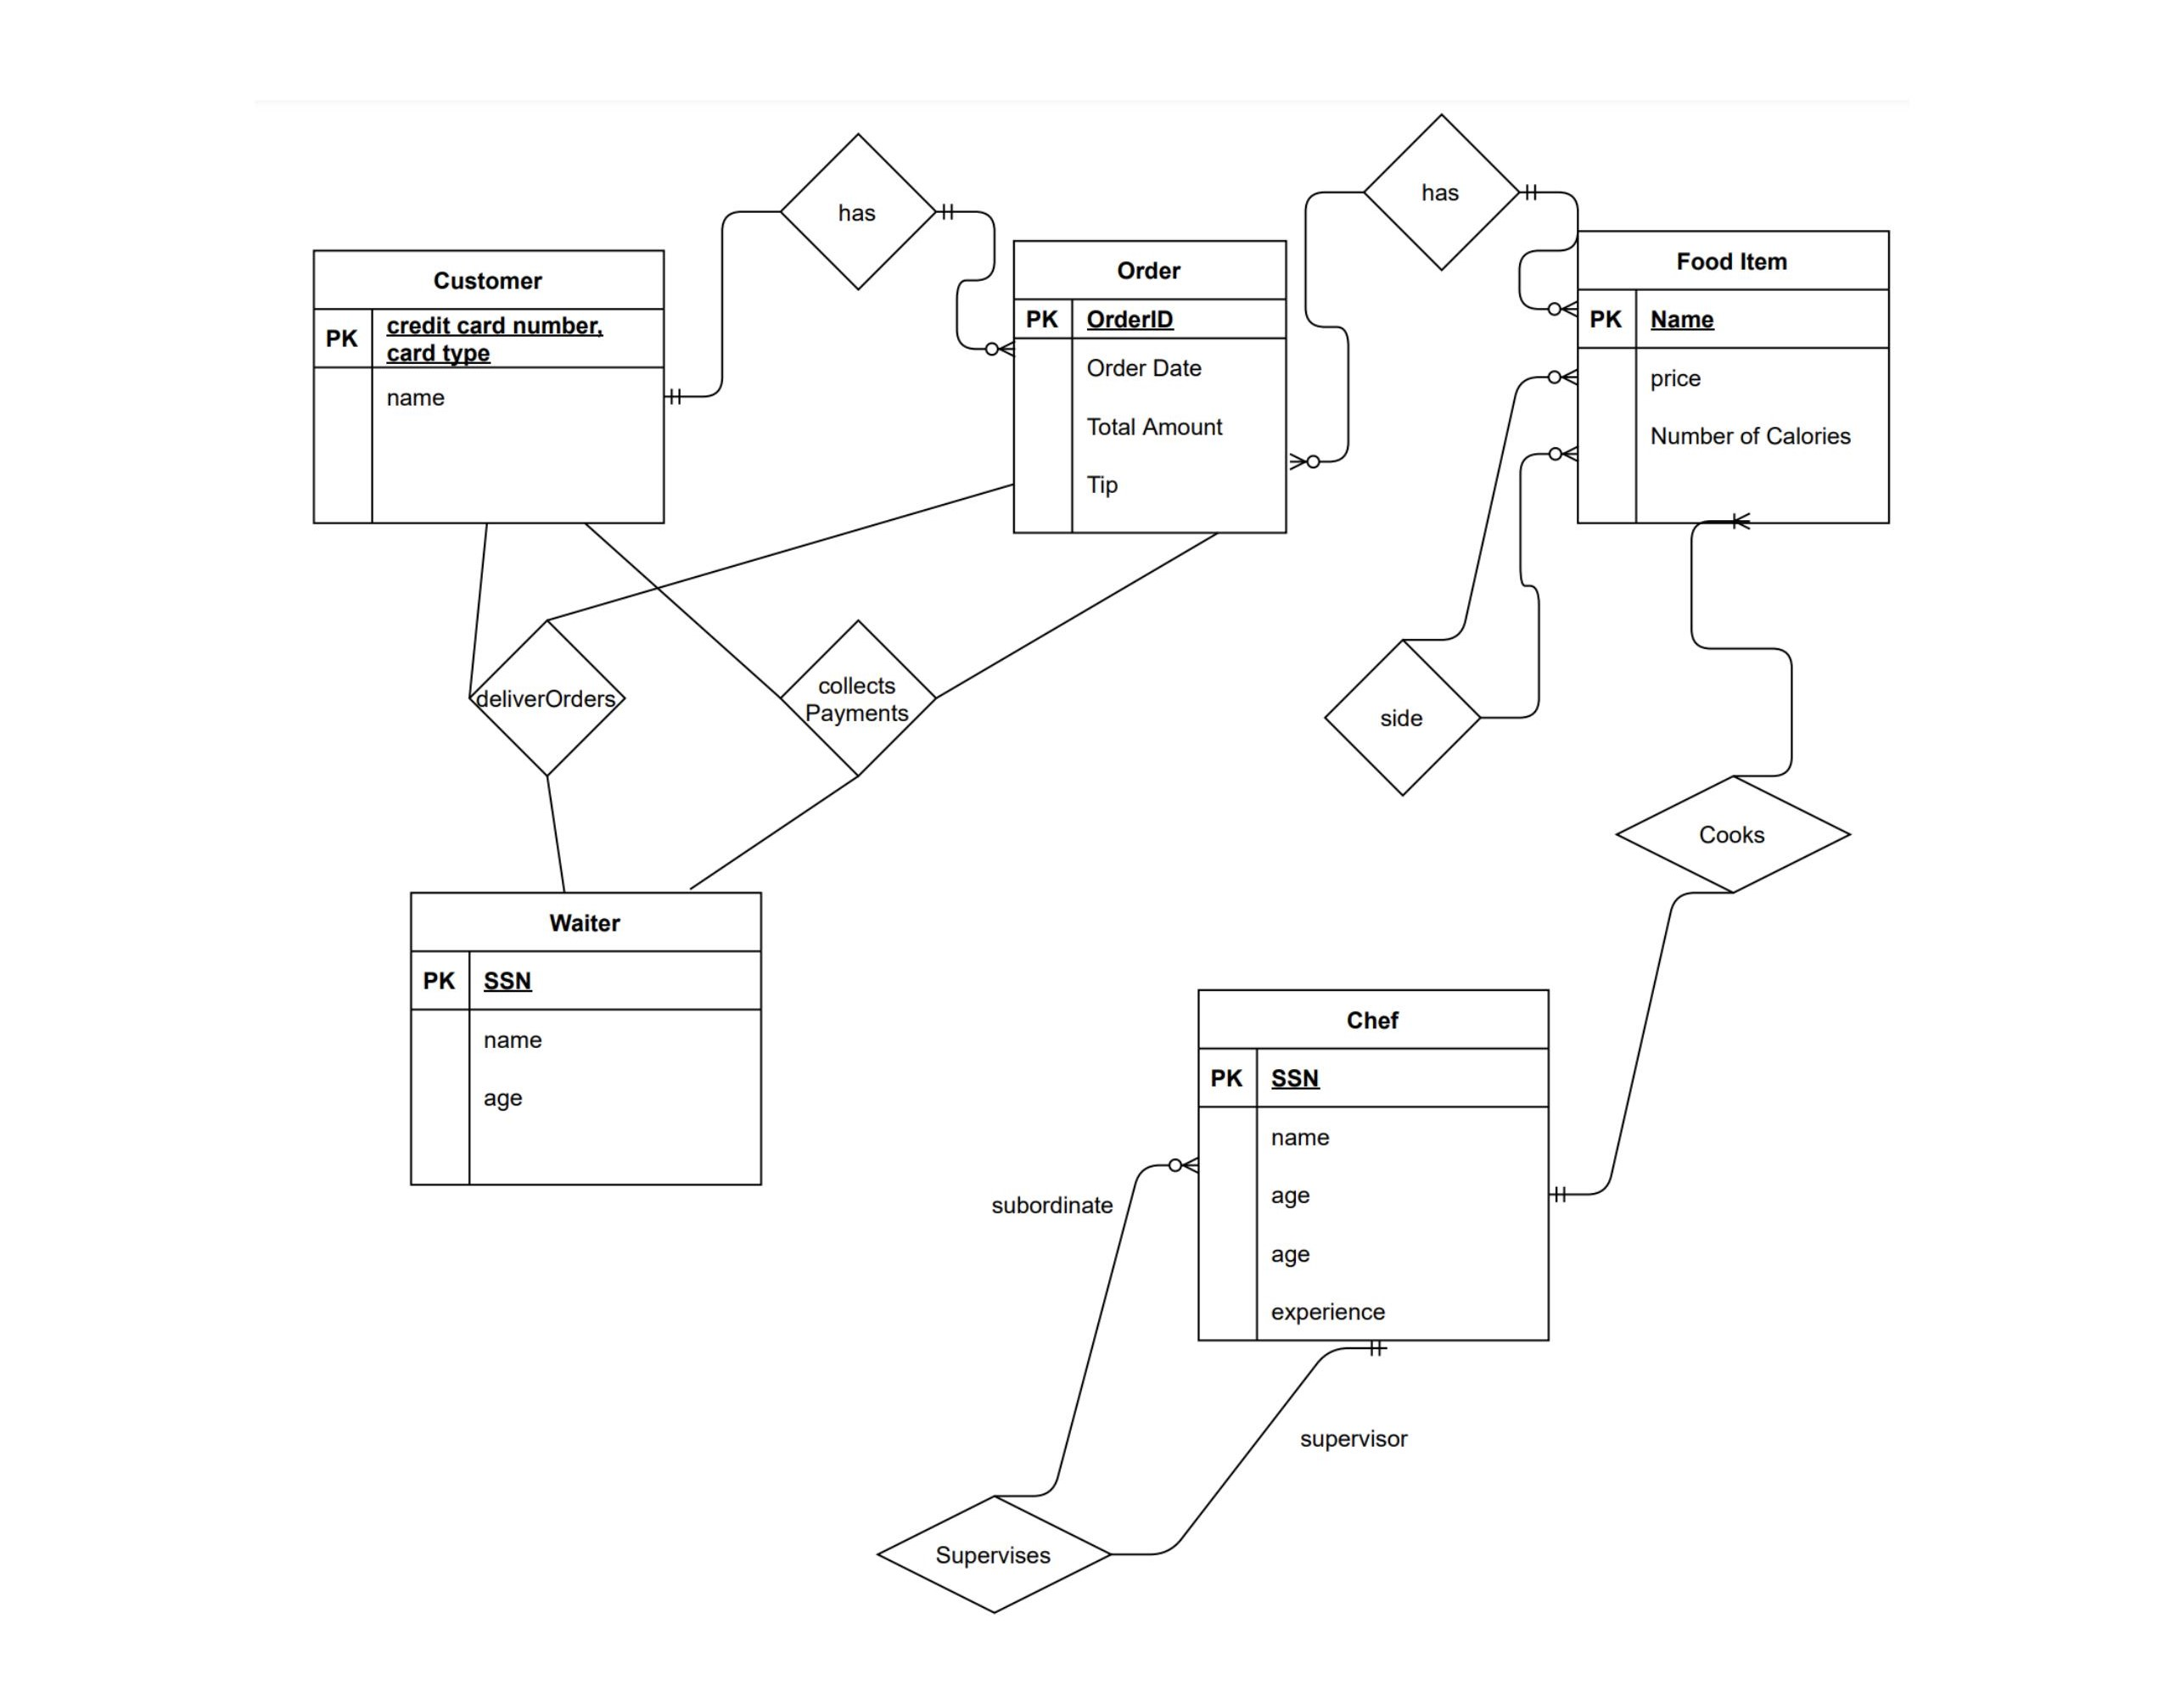Entity: (1184, 981, 1563, 1353), (397, 878, 780, 1204), (288, 239, 685, 535), (1551, 219, 1906, 544), (999, 230, 1312, 553)
Relationship: (1607, 765, 1855, 904), (873, 1490, 1112, 1625), (451, 616, 643, 774), (769, 614, 949, 781), (1312, 635, 1484, 799), (782, 126, 933, 298), (1370, 105, 1518, 277)
